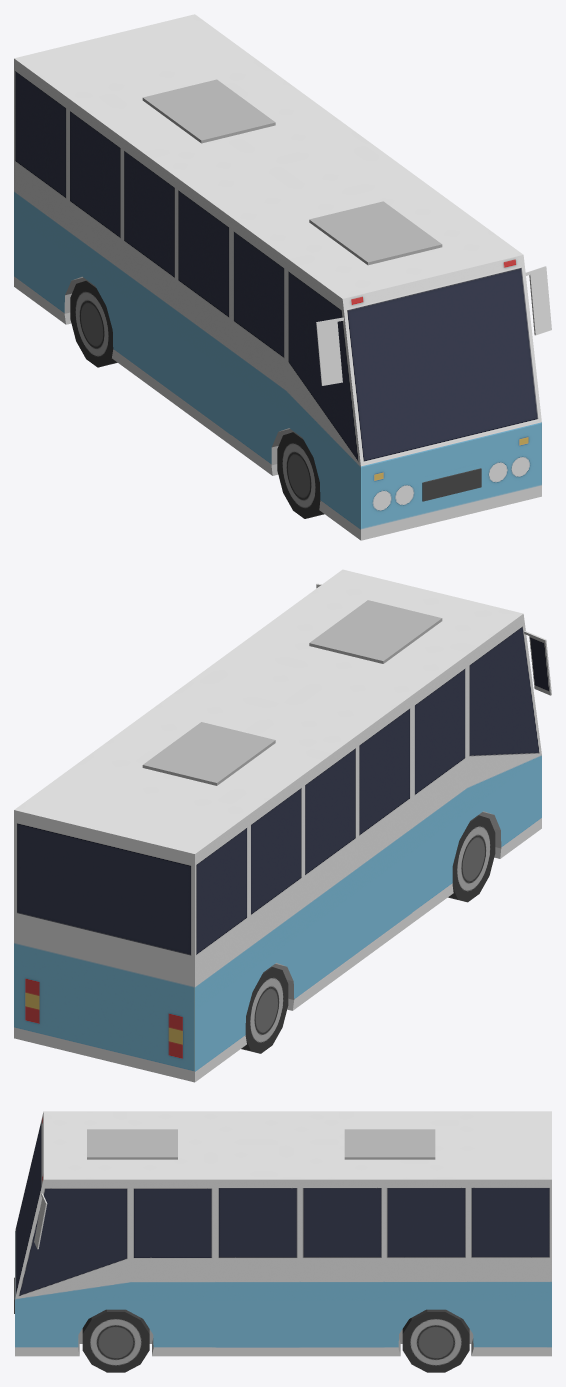
File: MedBus.fbx
3 views of the same model, one above another, from view 1: azimuth 30°, elevation 25°; view 2: azimuth 150°, elevation 25°; view 3: azimuth 270°, elevation 25° (orthographic). The views are drawn at different scales.
Visible parts, largest first — view 1: MedBus; view 2: MedBus; view 3: MedBus.
Part boxes in pixels (left/top/right/bottom): MedBus: left=14, top=14, right=551, bottom=540; MedBus: left=14, top=569, right=551, bottom=1082; MedBus: left=14, top=1111, right=551, bottom=1372.
Size of the model in its own units: 328 by 346 by 859.
